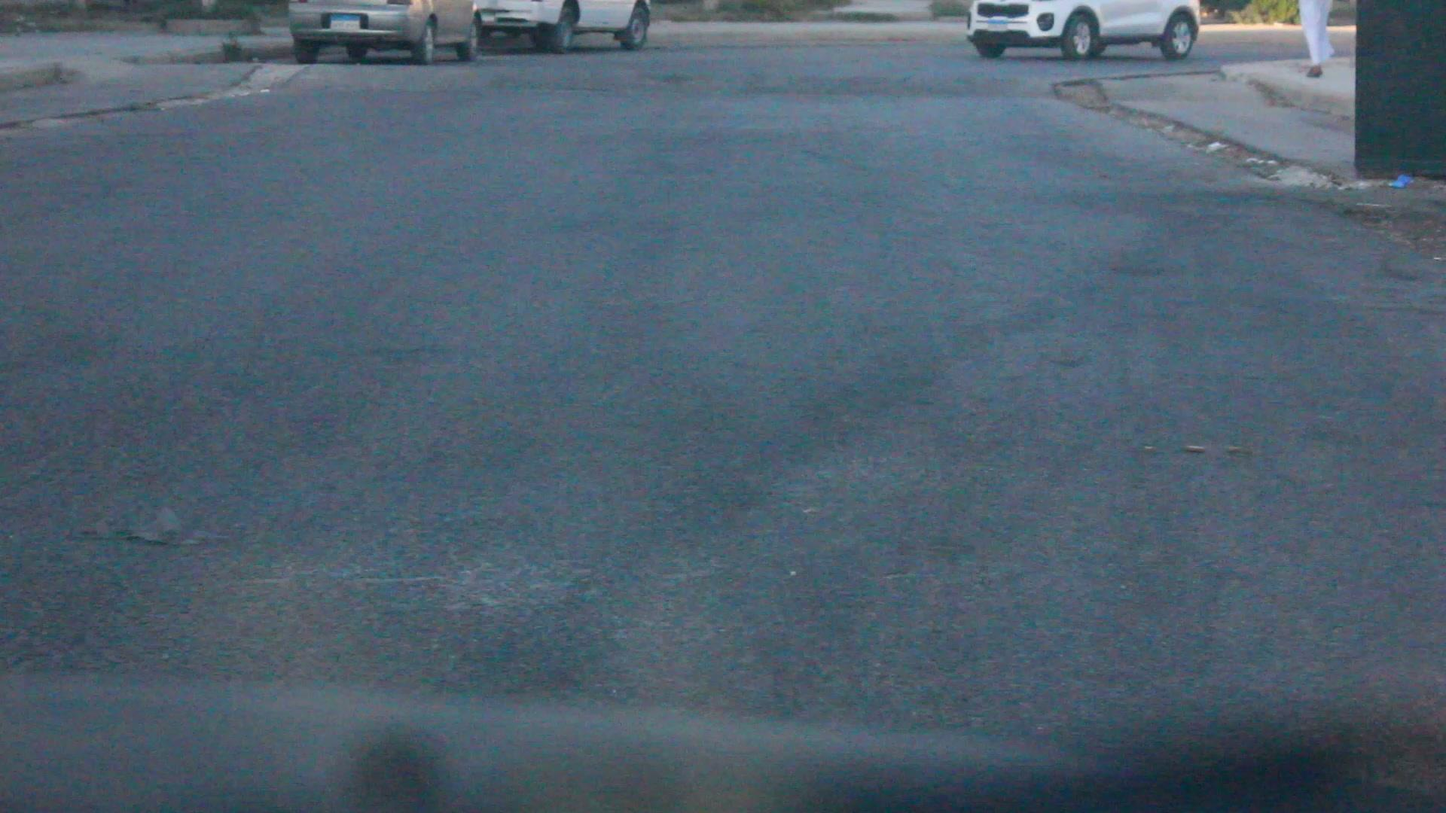Bump: (117, 58, 1086, 104)
